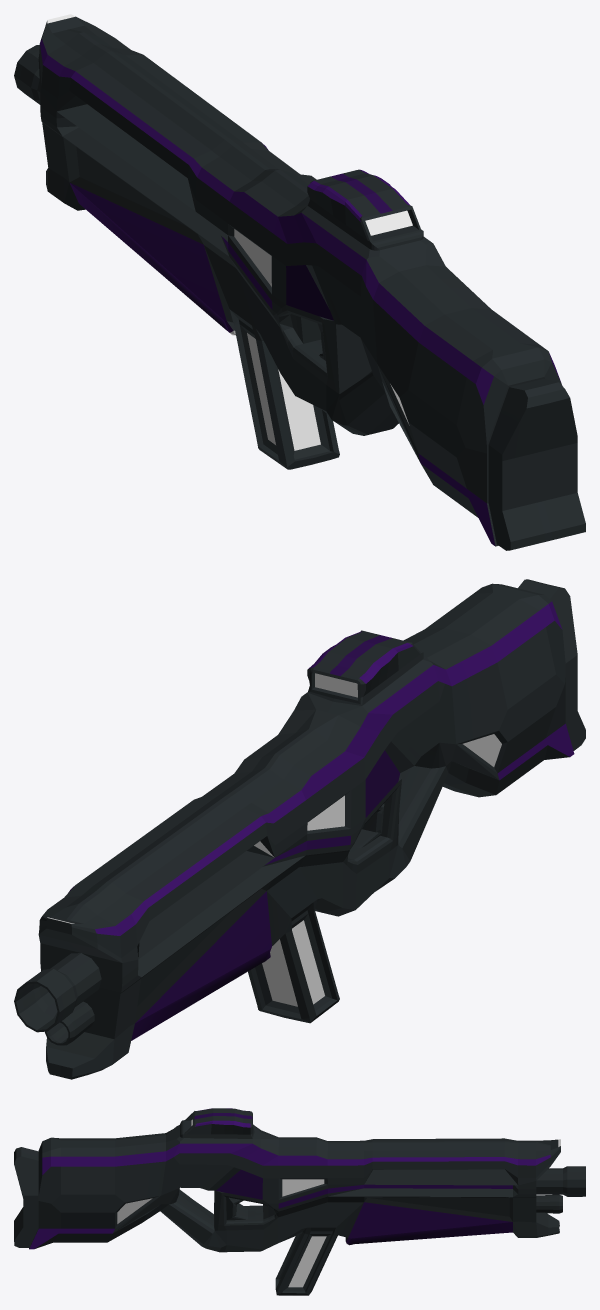
The model's file is kar_mk_3.fbx.
The picture shows the model from 3 angles, top to bottom: view 1: azimuth 30°, elevation 25°; view 2: azimuth 150°, elevation 25°; view 3: azimuth 270°, elevation 25°; orthographic projection. The views are drawn at different scales.
Parts seen in each view (by area): view 1: Kar_mk_3; view 2: Kar_mk_3; view 3: Kar_mk_3.
Part boxes in pixels (x1,y1,x2,y2): Kar_mk_3: (14,14,585,550); Kar_mk_3: (14,579,585,1079); Kar_mk_3: (14,1108,585,1295).
Bounding box in the file's own units: 11.87 × 35.85 × 106.
